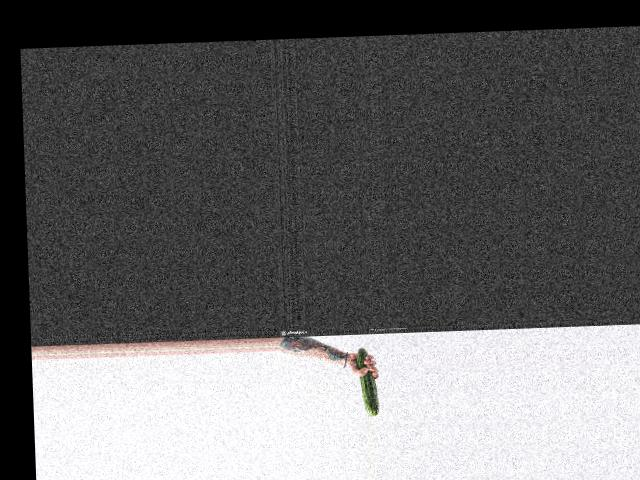cucumber: (357, 347, 380, 417)
